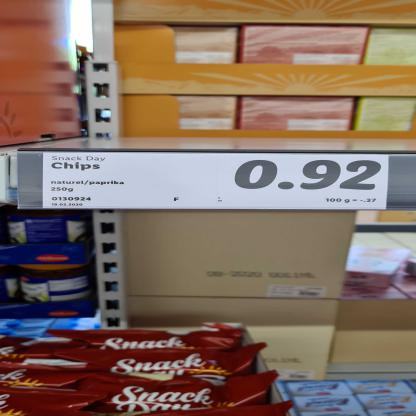prtg: (44, 154, 390, 211)
